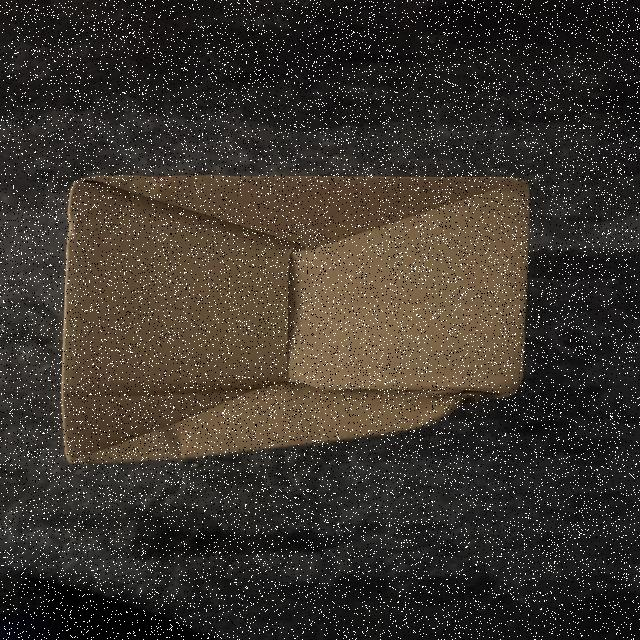damaged: (51, 168, 549, 472), (260, 366, 538, 464)
